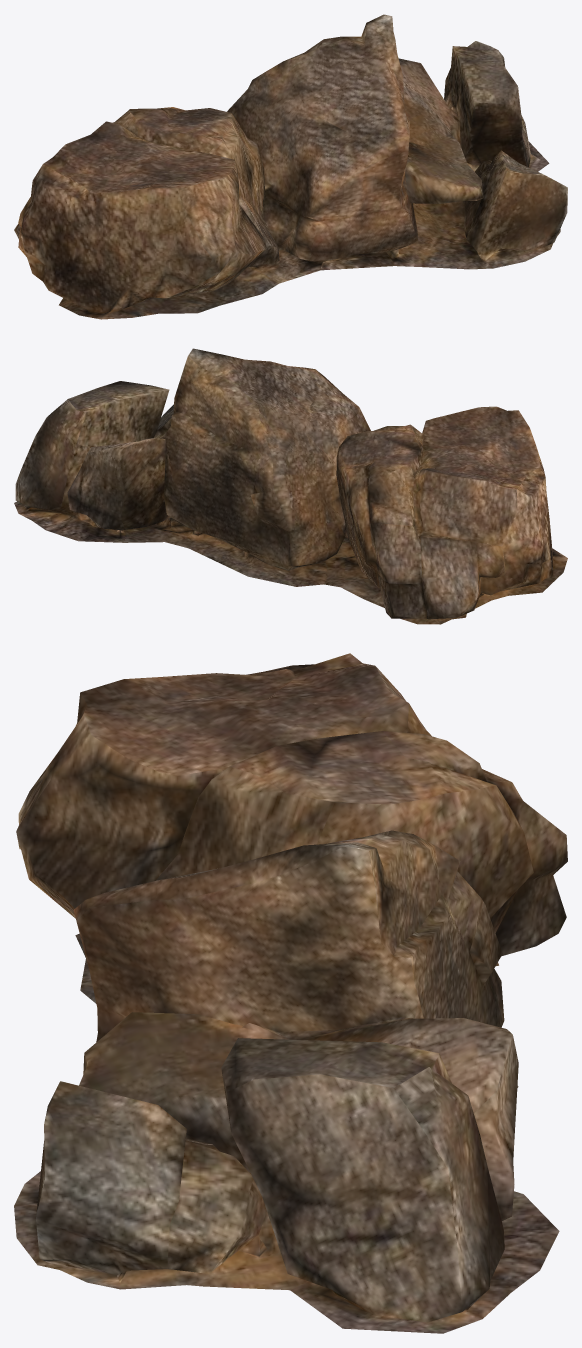
File: rocher2.glb
The picture shows the model from 3 angles, top to bottom: view 1: azimuth 30°, elevation 25°; view 2: azimuth 150°, elevation 25°; view 3: azimuth 270°, elevation 25°; orthographic projection. The views are drawn at different scales.
Visible parts, largest first — view 1: boulder_02; view 2: boulder_02; view 3: boulder_02.
Part boxes in pixels (<box>): boulder_02: <box>14,14,567,319</box>; boulder_02: <box>14,348,567,624</box>; boulder_02: <box>14,653,567,1333</box>.
Size of the model in its own units: 2.51 by 0.8788 by 1.23.
1 material, 1 textured.
